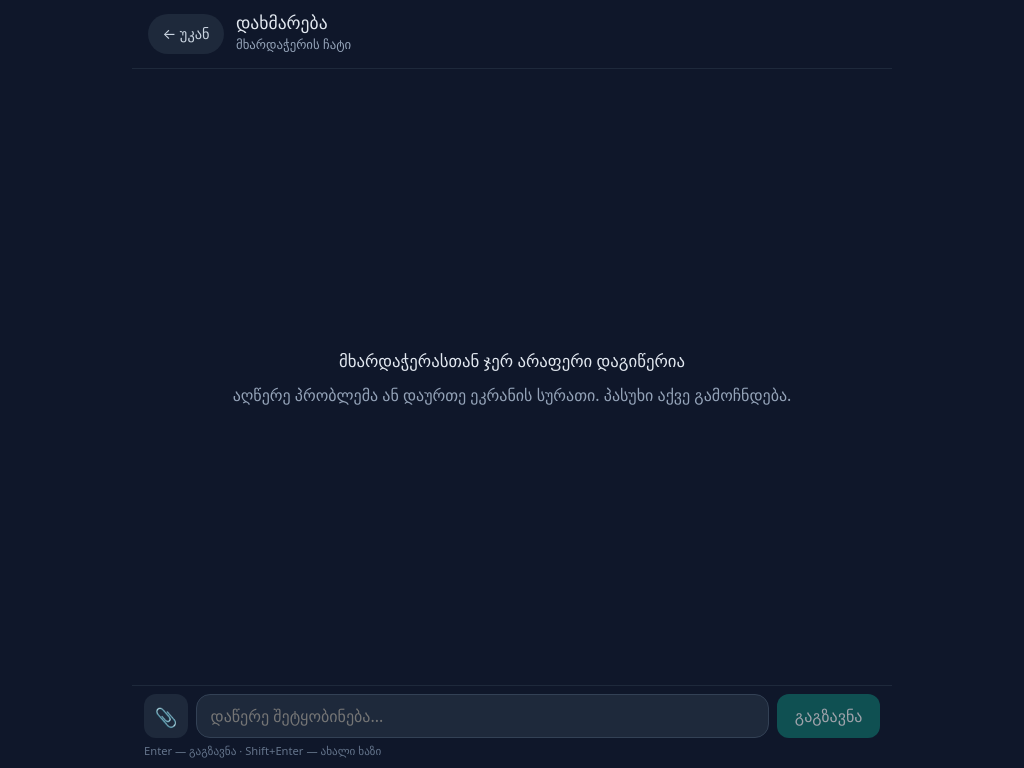
User chat page › signed-in: empty state, then sends a message
Expected: the text "მხარდაჭერასთან ჯერ არაფერი დაგიწერია" is shown, [339,348,685,373]
In the text box with placeholder "დაწერე შეტყობინება...": (483, 716) [196,694,769,738], type "დახმარება მჭირდება"
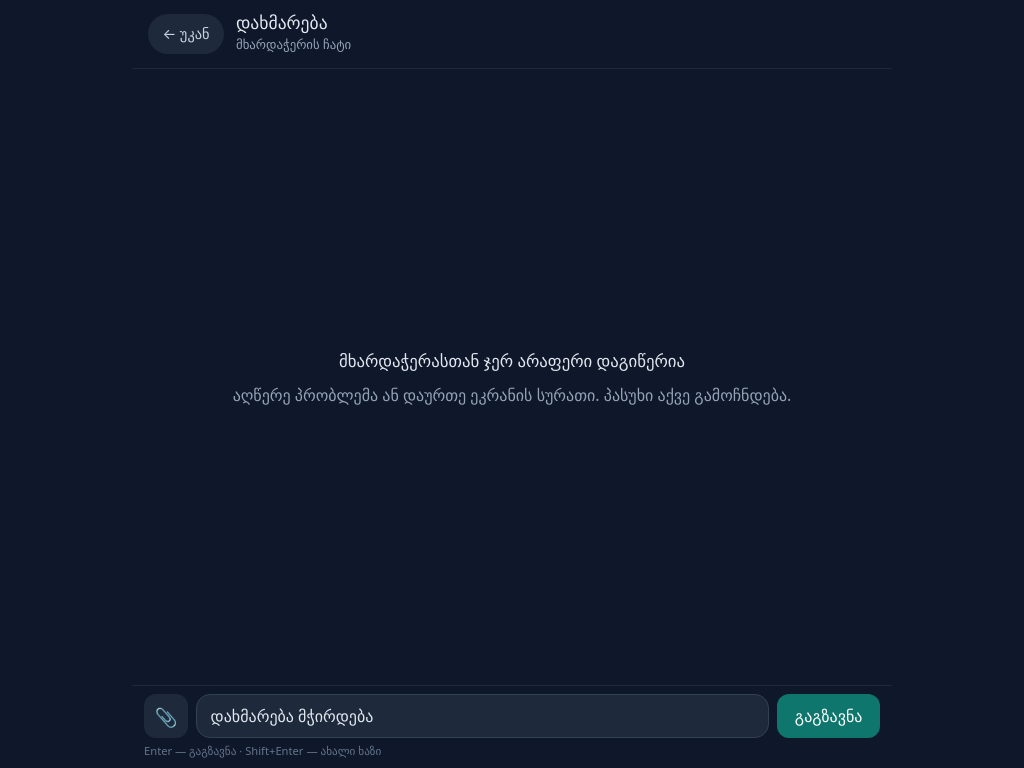
Press Enter in the text box with placeholder "დაწერე შეტყობინება...", box [196,694,769,738]
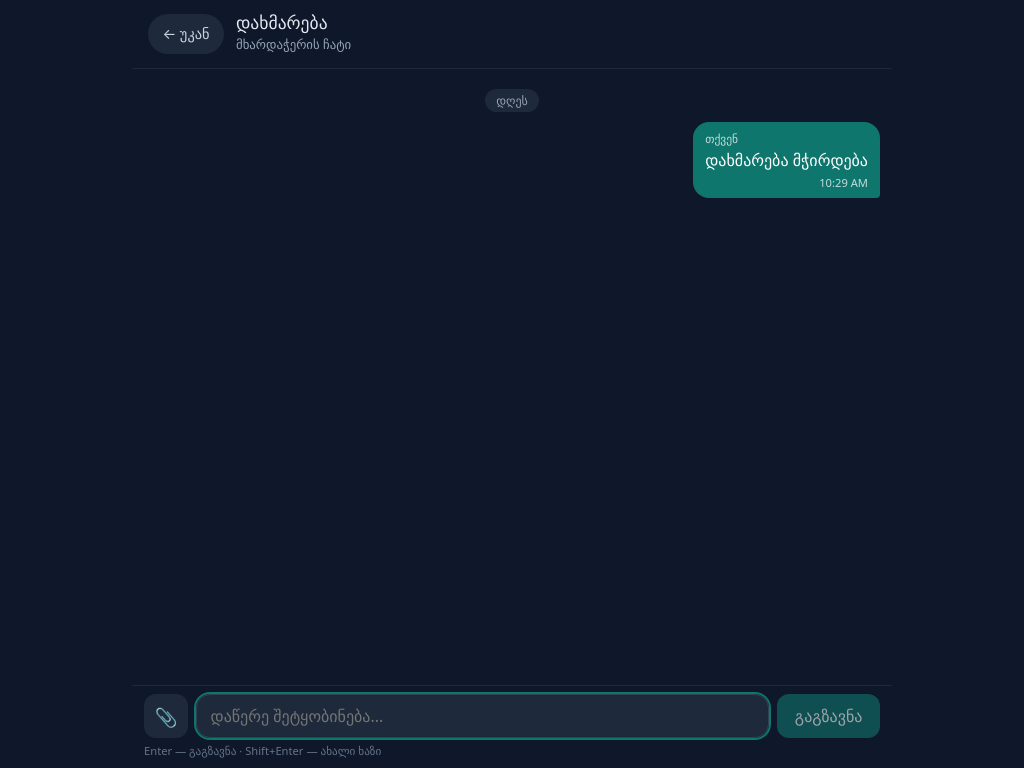
Result: the text "დახმარება მჭირდება" is shown at [705,150,868,172]
